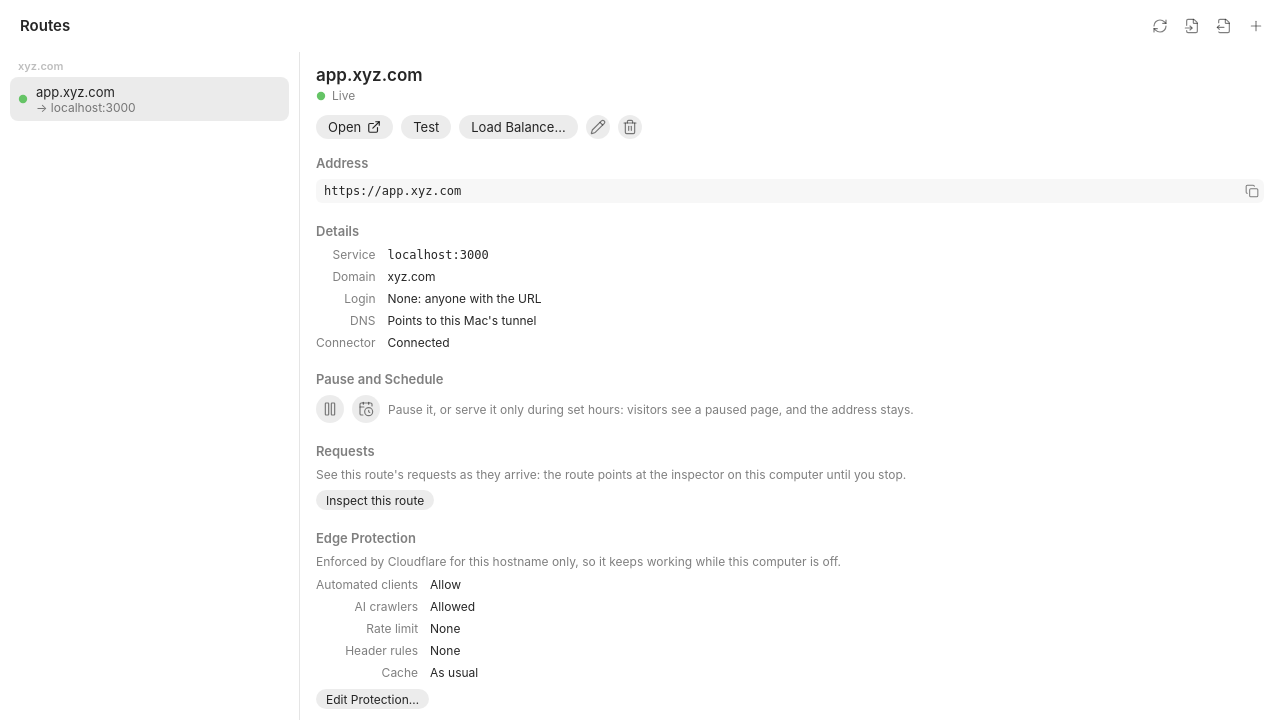
Scenario: RoutesPage › pauses a route and says so, keeping its address
The image size is (1280, 720).
Expected: the heading "app.xyz.com" is shown, [316, 65, 423, 85]
Click the button named "Pause": point(330, 409) [316, 395, 344, 423]
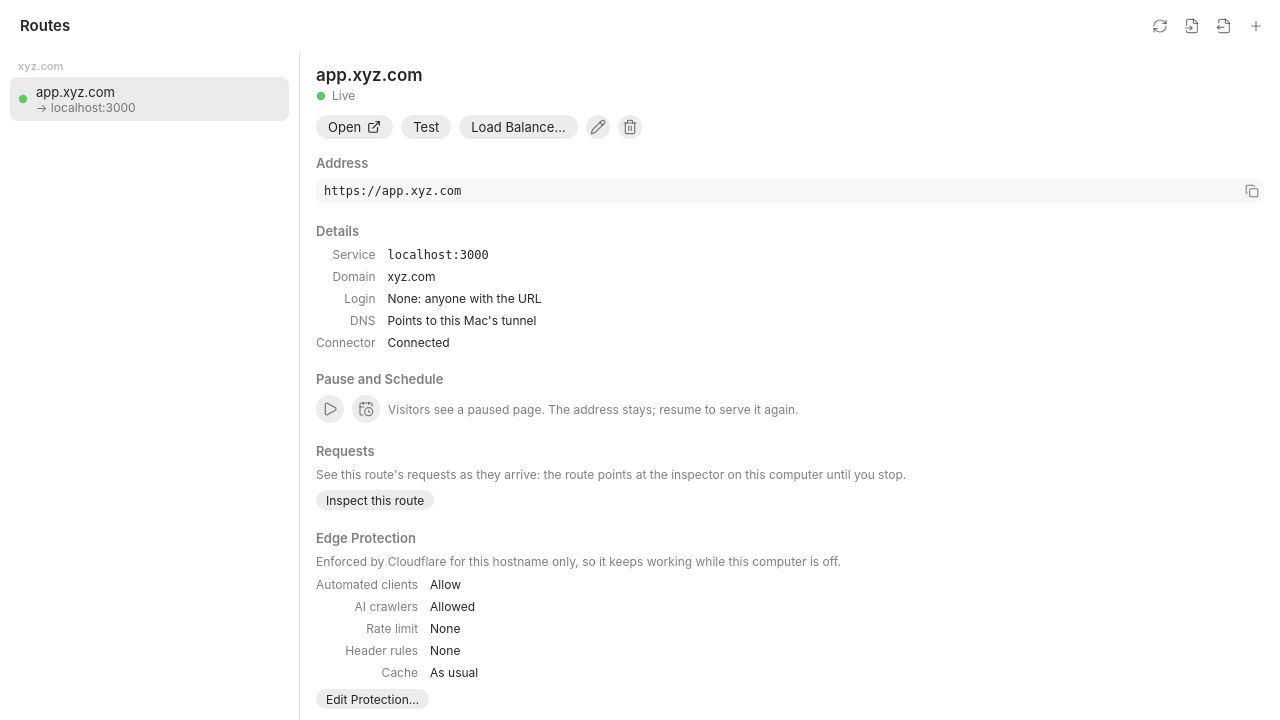
Expected: the text "Visitors see a paused page" is shown, [388, 402, 799, 416]
Result: the button named "Resume" is shown at [316, 395, 344, 423]
